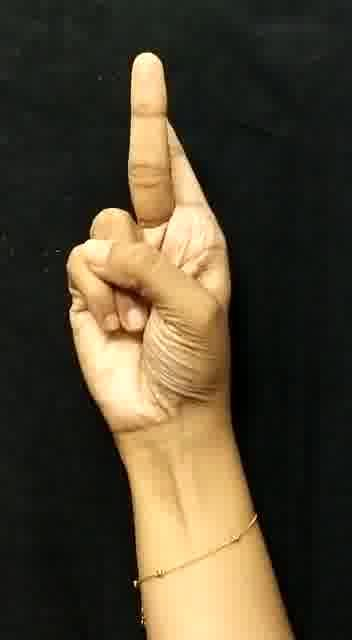kartarimukh: (52, 39, 254, 463)
